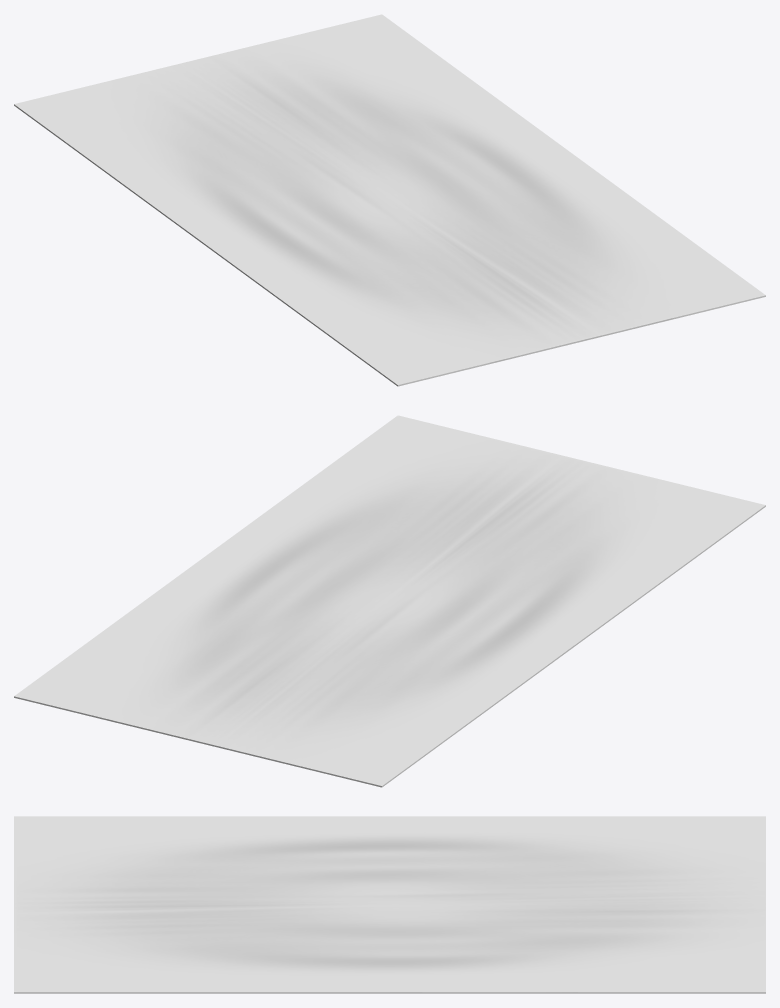
The model's file is window2by1_wtf.obj.
3 renders of one model, top to bottom at view 1: azimuth 30°, elevation 25°; view 2: azimuth 150°, elevation 25°; view 3: azimuth 270°, elevation 25°, orthographic. The views are drawn at different scales.
Parts seen in each view (by area): view 1: group1; view 2: group1; view 3: group1.
Boxes of the visible parts, box(x1,y1,x2,y2) form: group1: box(14, 14, 765, 386); group1: box(14, 415, 765, 787); group1: box(14, 816, 765, 993).
Bounding box in the file's own units: 365 × 1.41 × 660.
